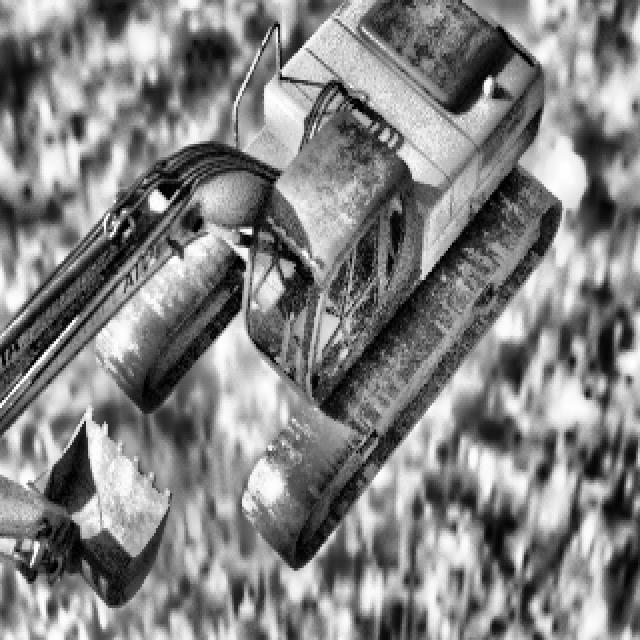excavator: (0, 0, 560, 605)
